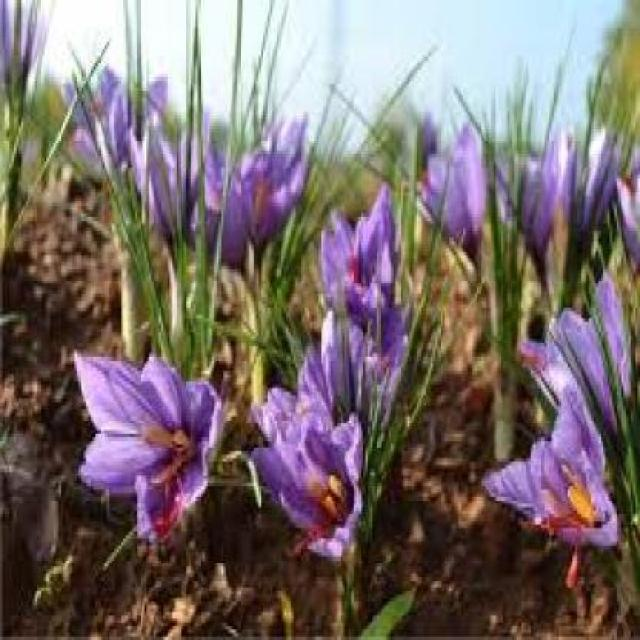saffron open: (77, 355, 221, 543), (253, 342, 363, 555), (486, 388, 619, 548), (521, 275, 631, 436), (424, 127, 486, 263), (618, 148, 639, 271)
